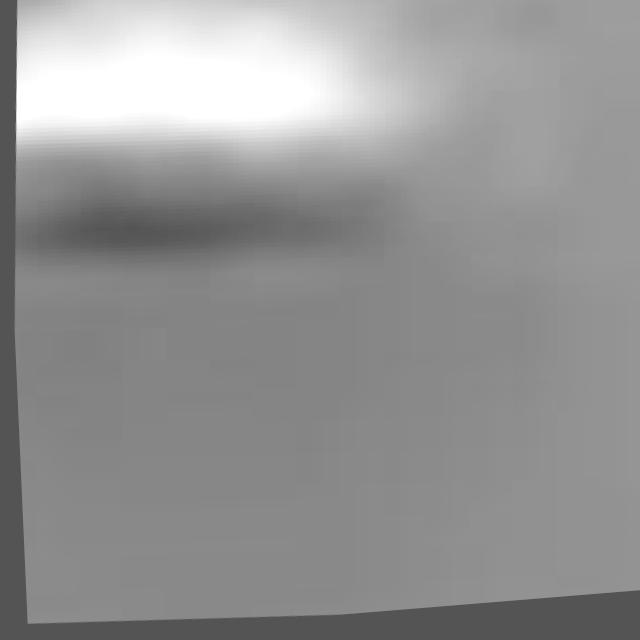person: (7, 1, 458, 209)
